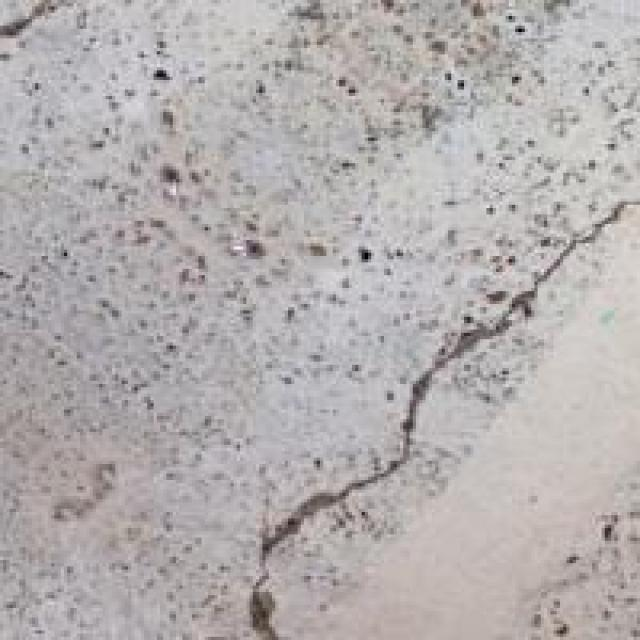crack: (230, 195, 637, 637)
